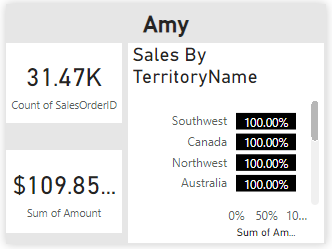

What the dashboard file says about the page in this screenshot:
{"tool":"powerbi","page":{"name":"Tooltip","canvas":[320,240],"ordinal":1},"visuals":[{"type":"card","fields":{"Values":["Sales vSalesFigures.FirstName"]},"box":[0,0,320,39],"z":0},{"type":"card","fields":{"Values":["Sales vSalesFigures.SalesOrderID"]},"box":[0,39,116,80],"z":1000},{"type":"card","fields":{"Values":["Sales vSalesFigures.Amount"]},"box":[0,146,116,83],"z":2000},{"type":"hundredPercentStackedBarChart","title":"Sales By TerritoryName","fields":{"Category":["Sales vSalesFigures.TerritoryName"],"Y":["Sales vSalesFigures.Amount"]},"box":[122,39,196,200],"z":3000}]}

Visuals, with their boxes in screenshot pixels (x1, y1, x2, y2), scaled from the page's 320x240 canvas onto the 332x249 screenshot:
card - Sales vSalesFigures.FirstName: 0/0/331/40
card - Sales vSalesFigures.SalesOrderID: 0/40/120/123
card - Sales vSalesFigures.Amount: 0/151/120/238
"Sales By TerritoryName" hundredPercentStackedBarChart: 127/40/330/248
